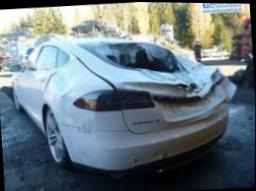Dickey: (65, 37, 239, 130)
Windshield: (76, 42, 192, 70)
